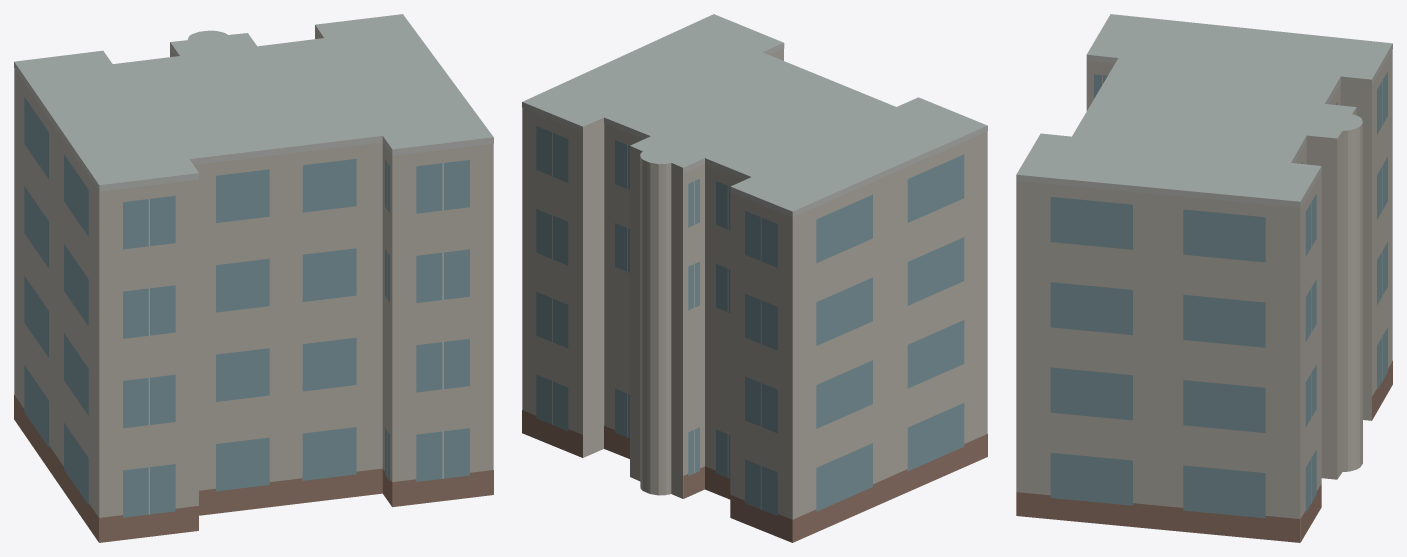
Rendered from survey-upis-32705793.glb.
3 renders of one model, left to right at view 1: azimuth 30°, elevation 25°; view 2: azimuth 150°, elevation 25°; view 3: azimuth 270°, elevation 25°, orthographic. The views are drawn at different scales.
Visible parts, largest first — view 1: survey-upis-32705793.tmp; view 2: survey-upis-32705793.tmp; view 3: survey-upis-32705793.tmp.
Boxes of the visible parts, x1,y1,x2,y2 form: survey-upis-32705793.tmp: [14, 14, 493, 542]; survey-upis-32705793.tmp: [522, 14, 987, 542]; survey-upis-32705793.tmp: [1016, 14, 1392, 542].
Size of the model in its own units: 16.29 by 13.8 by 13.81.
